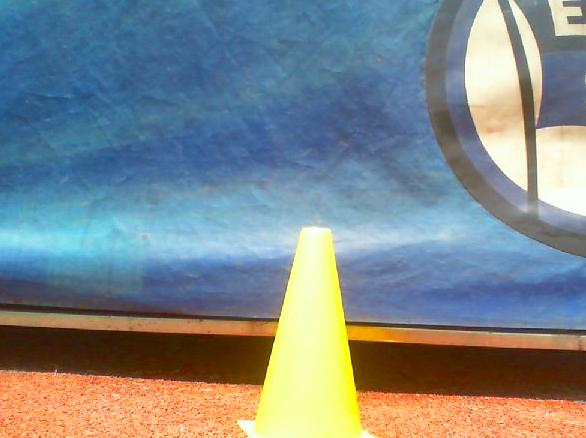0 cone: (237, 227, 387, 438)
